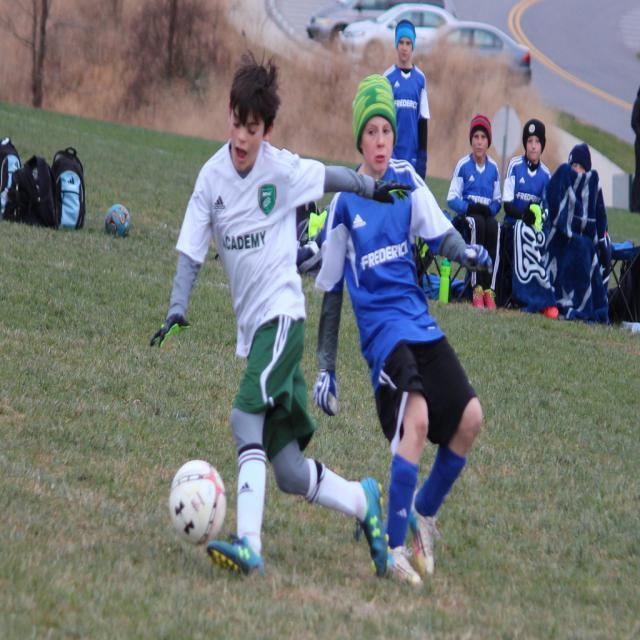football: (157, 446, 238, 556)
